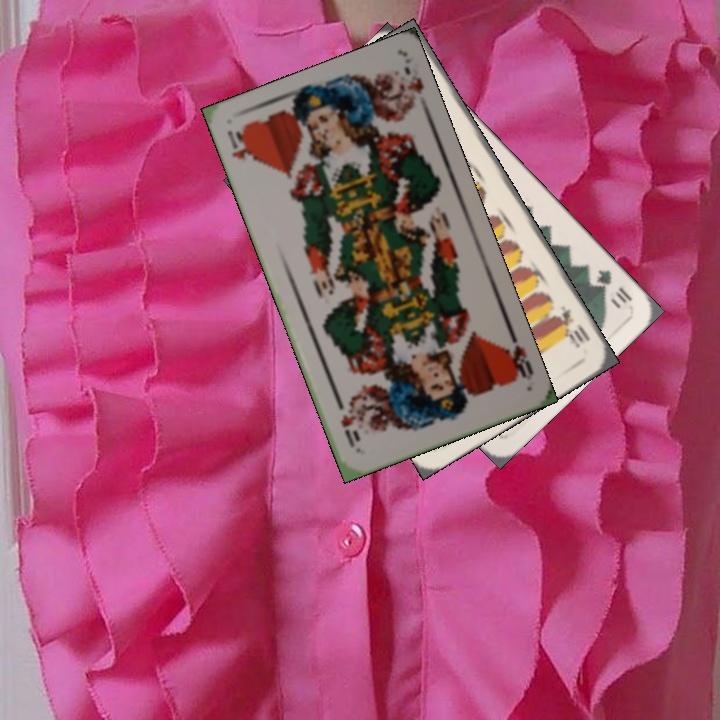E10: (550, 301, 593, 351)
G10: (591, 265, 635, 306)
HO: (499, 327, 536, 383), (222, 122, 257, 164)
